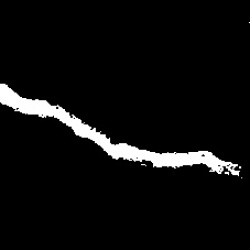crack: (4, 82, 242, 176)
